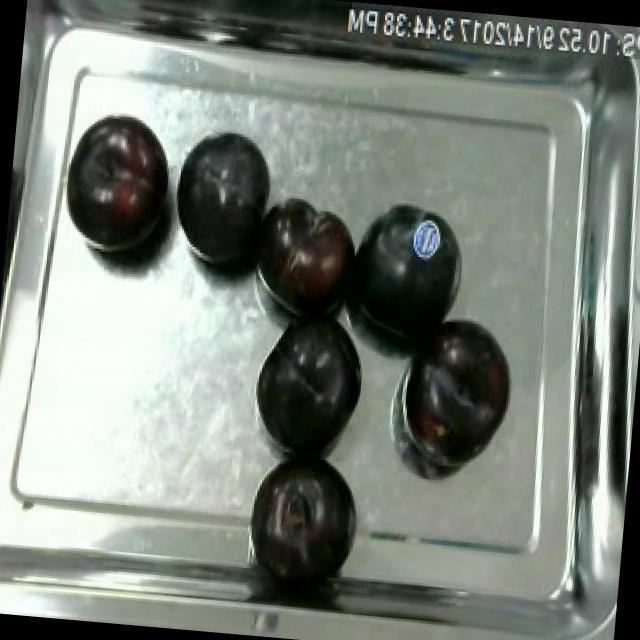Fruit: (334, 190, 471, 357), (158, 118, 286, 284), (396, 308, 523, 474), (58, 104, 184, 269), (250, 304, 373, 466), (247, 449, 364, 587), (248, 190, 366, 318)
